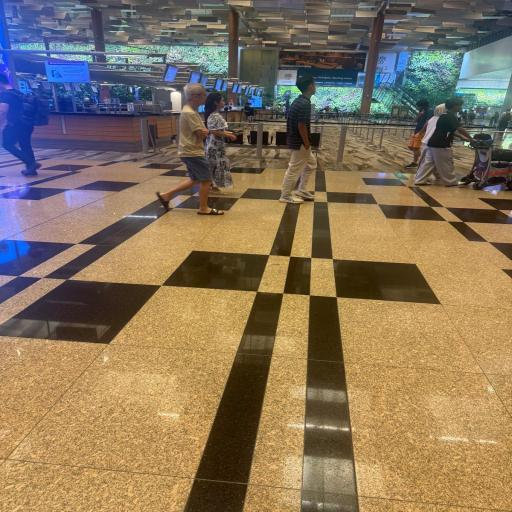person_left: (0, 74, 43, 176)
person_right: (156, 82, 225, 216), (278, 75, 320, 204), (202, 92, 242, 195), (420, 104, 448, 174)
person_with_luggage_right: (413, 98, 512, 187)
